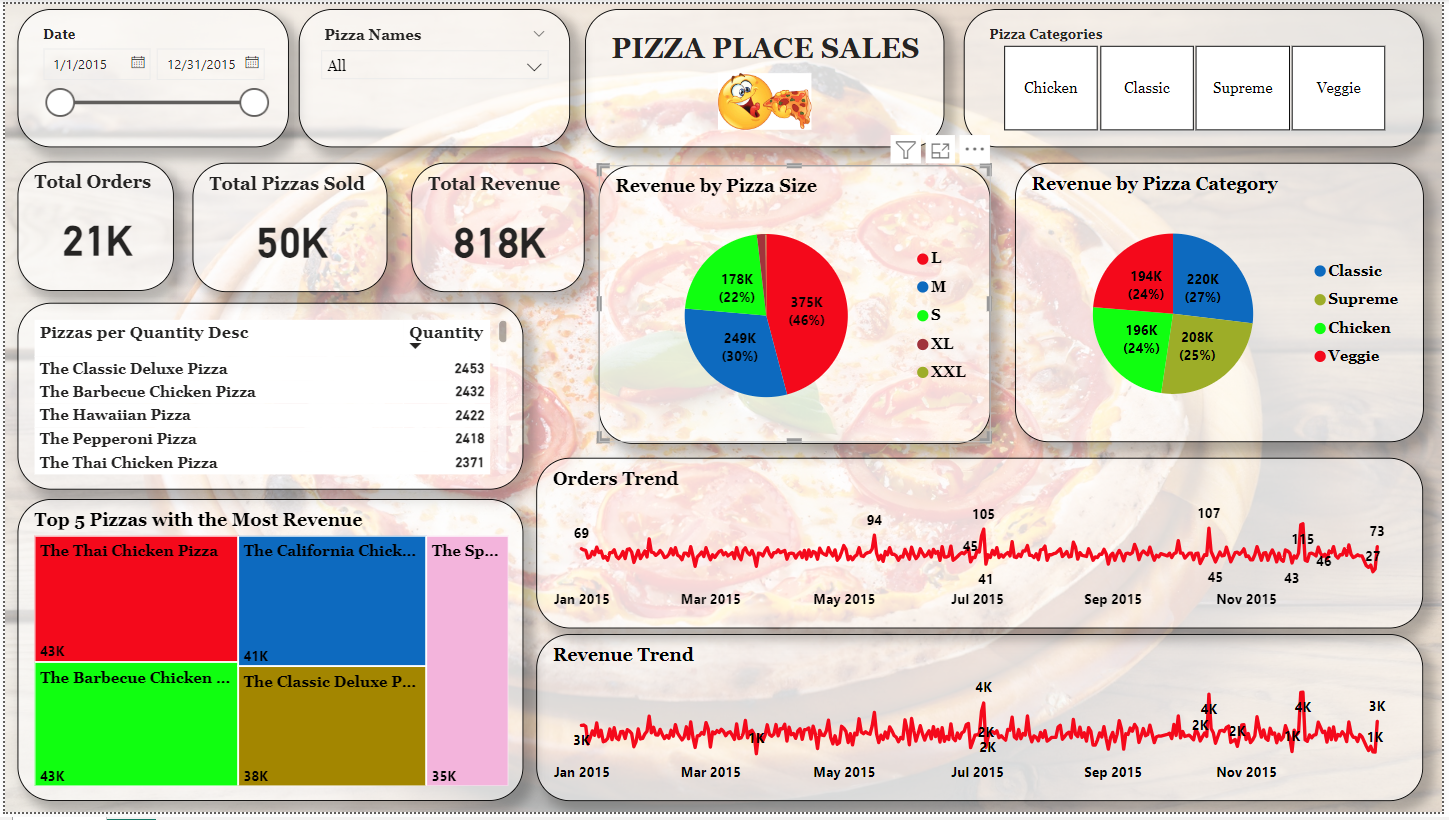

The page's visual inventory and layout, read from the dashboard file:
{"tool":"powerbi","page":{"name":"Page 1","canvas":[1280,720],"ordinal":0},"visuals":[{"type":"textbox","title":"PIZZA PLACE SALES","box":[516.3,4.7,319.8,123.3],"z":0},{"type":"slicer","fields":{"Values":["pizza_types.category"]},"box":[853.5,4.7,409.3,123.3],"z":1000},{"type":"slicer","fields":{"Values":["orders.date"]},"box":[11.6,4.7,241.9,123.3],"z":2000},{"type":"slicer","fields":{"Values":["pizza_types.name"]},"box":[261.6,4.7,241.9,123.3],"z":3000},{"type":"card","title":"Total Orders","fields":{"Values":["Count(order_details.order_id)"]},"box":[11.6,140.7,139.5,115.1],"z":4000},{"type":"card","title":"Total Pizzas Sold","fields":{"Values":["Sum(order_details.quantity)"]},"box":[167.4,141.9,173.3,115.1],"z":5000},{"type":"card","title":"Total Revenue","fields":{"Values":["Sum(order_details.Order_Price)"]},"box":[361.6,141.9,154.7,115.1],"z":5001},{"type":"pivotTable","title":"Total Revenue","fields":{"Rows":["pizza_types.name"],"Values":["Sum(order_details.quantity)"]},"box":[11.6,266.3,450,166.3],"z":5002},{"type":"image","box":[593,57,166.3,60.5],"z":5003},{"type":"pieChart","title":"Revenue by Pizza Category","fields":{"Category":["pizza_types.category"],"Y":["Sum(order_details.Order_Price)"]},"box":[898.8,141.9,364,248.8],"z":5004},{"type":"lineChart","title":"Revenue Trend","fields":{"Y":["Sum(order_details.Order_Price)"],"Category":["orders.date.Variation.Date Hierarchy.Year","orders.date.Variation.Date Hierarchy.Quarter","orders.date.Variation.Date Hierarchy.Month","orders.date.Variation.Date Hierarchy.Day"]},"box":[473.3,560.5,789.5,148.8],"z":5005},{"type":"treemap","title":"Top 5 Pizzas with the Most Revenue","fields":{"Group":["pizza_types.name"],"Values":["Sum(order_details.Order_Price)"]},"box":[11.6,440.7,450,268.6],"z":5006},{"type":"lineChart","title":"Orders Trend","fields":{"Category":["orders.date.Variation.Date Hierarchy.Year","orders.date.Variation.Date Hierarchy.Quarter","orders.date.Variation.Date Hierarchy.Month","orders.date.Variation.Date Hierarchy.Day"],"Y":["Count(order_details.order_id)"]},"box":[473.3,403.5,789.5,152.3],"z":5007},{"type":"pieChart","title":"Revenue by Pizza Size","fields":{"Y":["Sum(order_details.Order_Price)"],"Category":["pizzas.size"]},"box":[529.1,143,348.8,247.7],"z":5008}]}

Visuals, with their boxes in screenshot pixels (x1, y1, x2, y2), scaled from the page's 1280x720 canvas onto the 1449x820 screenshot:
"PIZZA PLACE SALES" textbox: box=[584, 5, 946, 146]
slicer - pizza_types.category: box=[966, 5, 1430, 146]
slicer - orders.date: box=[13, 5, 287, 146]
slicer - pizza_types.name: box=[296, 5, 570, 146]
"Total Orders" card: box=[13, 160, 171, 291]
"Total Pizzas Sold" card: box=[190, 162, 386, 293]
"Total Revenue" card: box=[409, 162, 584, 293]
"Total Revenue" pivotTable: box=[13, 303, 523, 493]
image: box=[671, 65, 860, 134]
"Revenue by Pizza Category" pieChart: box=[1017, 162, 1430, 445]
"Revenue Trend" lineChart: box=[536, 638, 1430, 808]
"Top 5 Pizzas with the Most Revenue" treemap: box=[13, 502, 523, 808]
"Orders Trend" lineChart: box=[536, 460, 1430, 633]
"Revenue by Pizza Size" pieChart: box=[599, 163, 994, 445]
